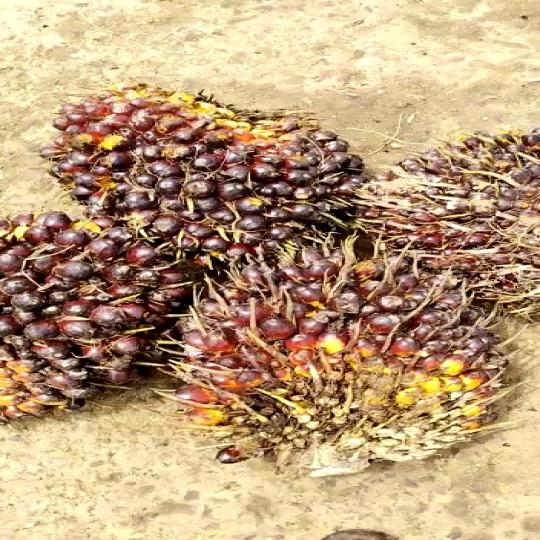kurang masak: (178, 238, 508, 478), (53, 76, 389, 254), (0, 217, 178, 428), (397, 124, 540, 338)
